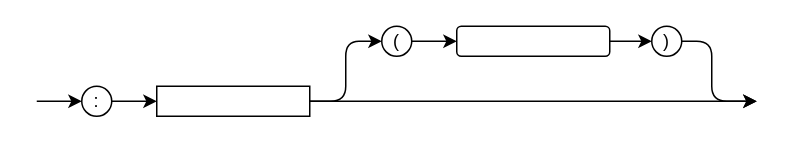
Image size: 795x143. Some labels were removed from this diagram. Each missing label, with the box of its shape:
env: (155, 85, 310, 116)
variable name: (455, 25, 610, 56)
